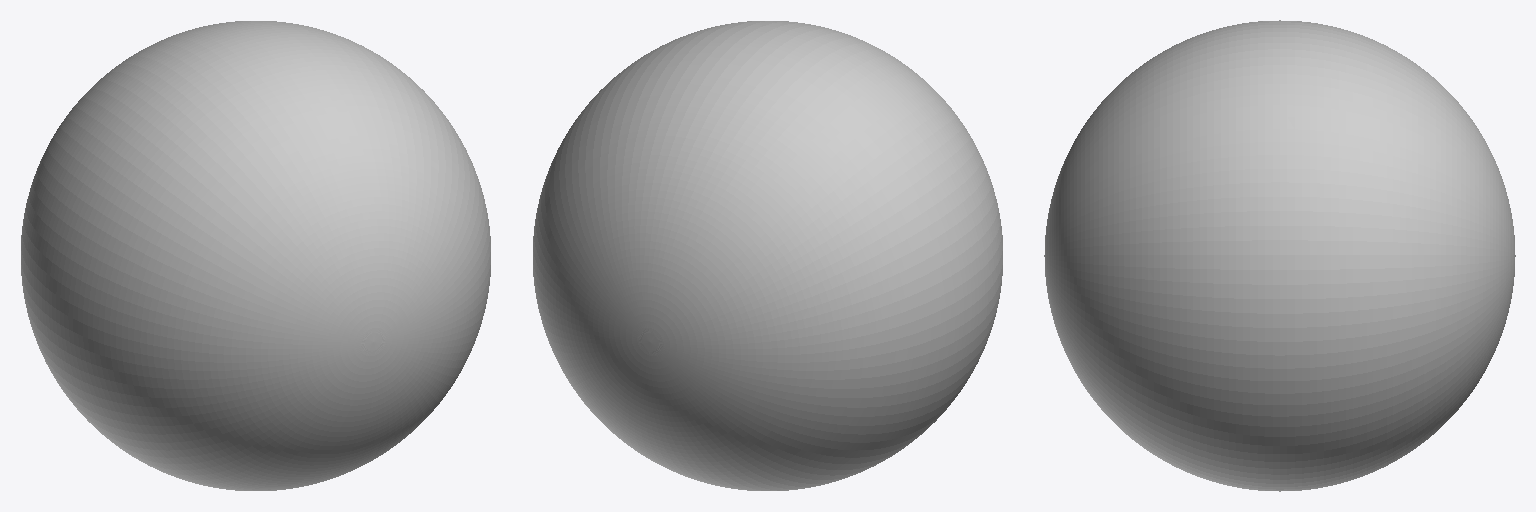
Rendered from geoid2.obj.
3 renders of one model, left to right at view 1: azimuth 30°, elevation 25°; view 2: azimuth 150°, elevation 25°; view 3: azimuth 270°, elevation 25°, orthographic.
Visible parts, largest first — view 1: Sun_Sphere.003; view 2: Sun_Sphere.003; view 3: Sun_Sphere.003.
Part boxes in pixels (bbox=[...]): Sun_Sphere.003: bbox=[21, 21, 490, 490]; Sun_Sphere.003: bbox=[533, 21, 1002, 490]; Sun_Sphere.003: bbox=[1044, 20, 1515, 491].
Size of the model in its own units: 1 by 1 by 1.